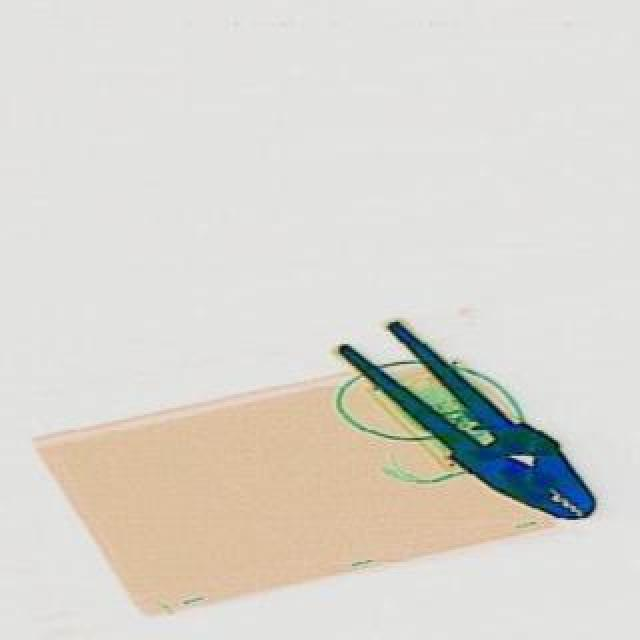wrench: (328, 298, 612, 546)
